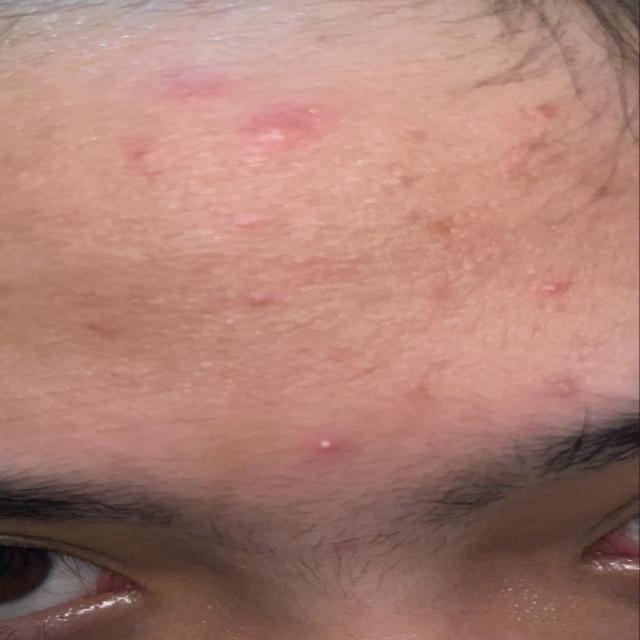papule: (100, 65, 391, 176), (172, 201, 294, 333)
pustule: (536, 263, 577, 306), (317, 428, 340, 466)
